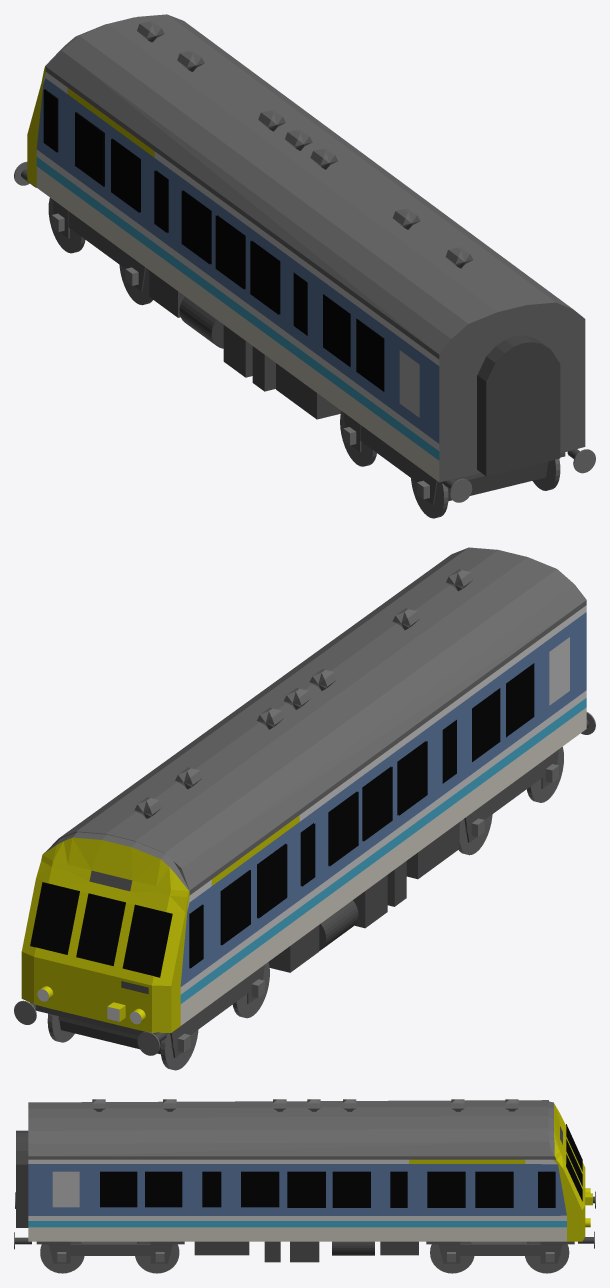
Rendered from BR-101-dtcl-rr.dae.
3 views of the same model, one above another, from view 1: azimuth 30°, elevation 25°; view 2: azimuth 150°, elevation 25°; view 3: azimuth 270°, elevation 25° (orthographic). The views are drawn at different scales.
Visible parts, largest first — view 1: BR-cl101-front_rear, Cube, Cube_060_001, Cube_001, Cube_043, Cube_043_001, Cylinder_002, Cube_003, Cube_004, Cube_002, Cylinder_011_001; view 2: BR-cl101-front_rear, Cube_043, Cube_001, Cube_043_001, Cube_004, Cube_003, Cube_061, Cylinder_002, Cylinder_010, Cube_002; view 3: BR-cl101-front_rear, Cube_043, Cube_043_001, Cube, Cube_001, Cube_003, Cylinder_008_001, Cylinder_003, Cylinder_008, Cylinder_009_001, Cylinder_009, Cube_004 (+5 smaller).
Boxes of the visible parts, bbox=[...] form: BR-cl101-front_rear: bbox=[27, 14, 585, 482]; Cube: bbox=[477, 335, 560, 476]; Cube_060_001: bbox=[425, 452, 565, 504]; Cube_001: bbox=[276, 363, 341, 419]; Cube_043: bbox=[53, 211, 142, 281]; Cube_043_001: bbox=[360, 425, 433, 494]; Cylinder_002: bbox=[179, 296, 223, 348]; Cube_003: bbox=[223, 325, 252, 377]; Cube_004: bbox=[149, 270, 184, 317]; Cube_002: bbox=[252, 346, 275, 391]; Cylinder_011_001: bbox=[411, 478, 448, 518]; BR-cl101-front_rear: bbox=[21, 547, 586, 1035]; Cube_043: bbox=[58, 967, 262, 1047]; Cube_001: bbox=[406, 822, 459, 879]; Cube_043_001: bbox=[465, 751, 556, 832]; Cube_004: bbox=[268, 925, 319, 972]; Cube_003: bbox=[353, 875, 387, 928]; Cube_061: bbox=[59, 1020, 187, 1057]; Cylinder_002: bbox=[319, 900, 358, 950]; Cylinder_010: bbox=[160, 1030, 198, 1070]; Cube_002: bbox=[387, 861, 406, 906]; BR-cl101-front_rear: bbox=[28, 1099, 585, 1241]; Cube_043: bbox=[460, 1241, 560, 1255]; Cube_043_001: bbox=[70, 1241, 170, 1255]; Cube: bbox=[16, 1130, 28, 1227]; Cube_001: bbox=[194, 1241, 249, 1255]; Cube_003: bbox=[290, 1241, 319, 1262]; Cylinder_008_001: bbox=[40, 1241, 84, 1273]; Cylinder_003: bbox=[332, 1241, 374, 1255]; Cylinder_008: bbox=[430, 1241, 474, 1273]; Cylinder_009_001: bbox=[135, 1241, 179, 1273]; Cylinder_009: bbox=[525, 1241, 569, 1273]; Cube_004: bbox=[380, 1241, 418, 1255].
Bounding box in the file's own units: 2.04 × 10.32 × 3.05.
